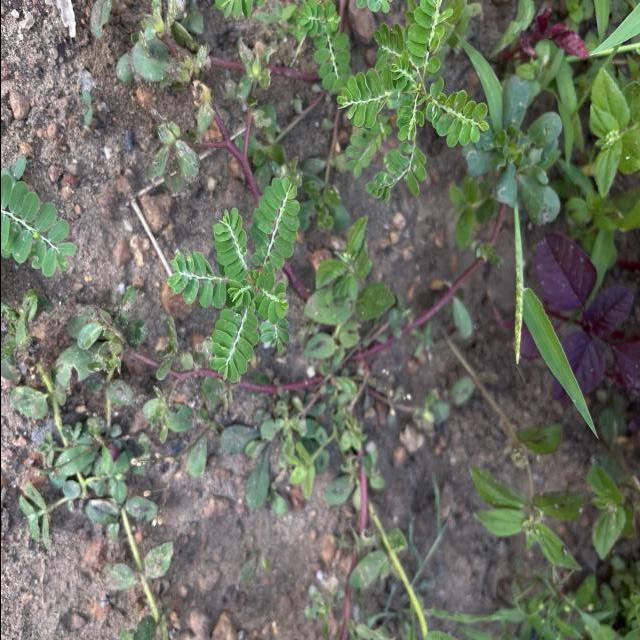Phyllanthus niruri: (247, 176, 300, 270), (422, 78, 490, 150), (208, 300, 260, 386), (334, 66, 399, 132), (165, 251, 227, 311), (211, 205, 252, 283), (250, 268, 290, 326)
